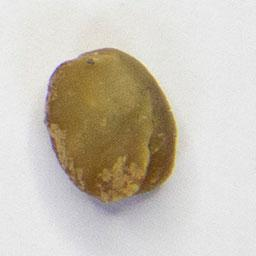defect: (41, 43, 181, 208)
